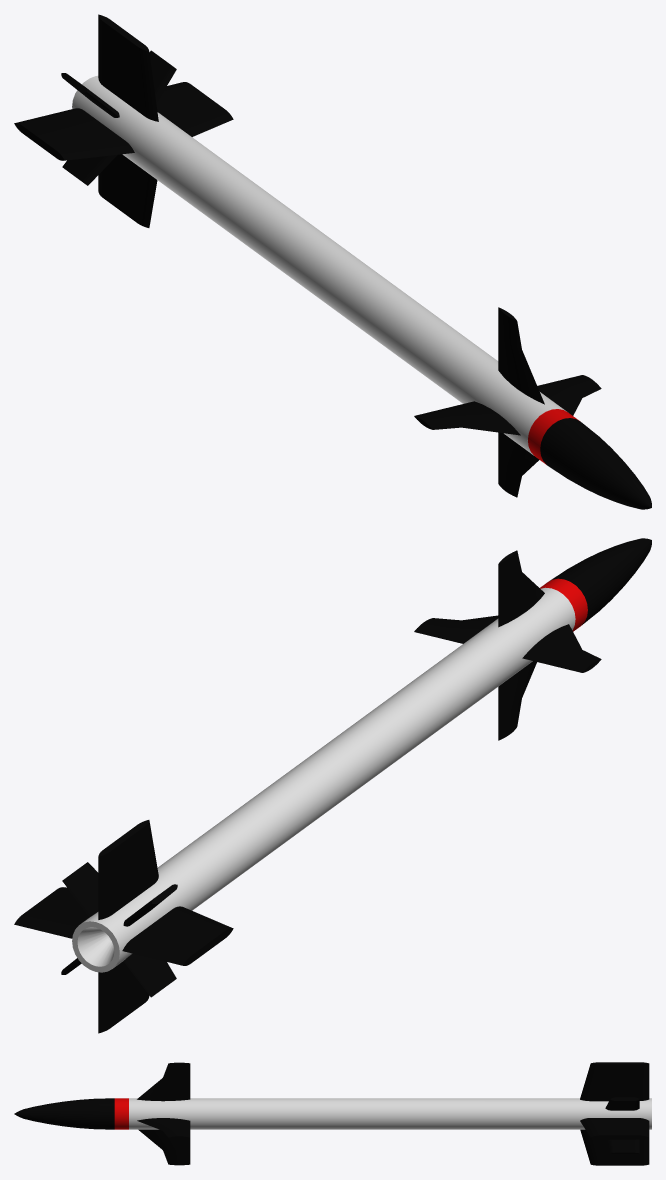
The model's file is Missiles.fbx.
3 views of the same model, one above another, from view 1: azimuth 30°, elevation 25°; view 2: azimuth 150°, elevation 25°; view 3: azimuth 270°, elevation 25° (orthographic). The views are drawn at different scales.
Visible parts, largest first — view 1: MissileInner, MissileMiddle, MissileOuter; view 2: MissileInner, MissileMiddle, MissileOuter; view 3: MissileInner, MissileMiddle, MissileOuter.
Part boxes in pixels (x1,y1,x2,y2): MissileInner: (14,14,651,508); MissileMiddle: (15,16,650,509); MissileOuter: (61,50,176,185); MissileInner: (14,538,651,1033); MissileMiddle: (18,540,651,1031); MissileOuter: (61,862,177,997); MissileInner: (14,1062,651,1165); MissileMiddle: (15,1063,651,1165); MissileOuter: (605,1097,639,1153).
Size of the model in its own units: 69.62 by 69.62 by 397.
